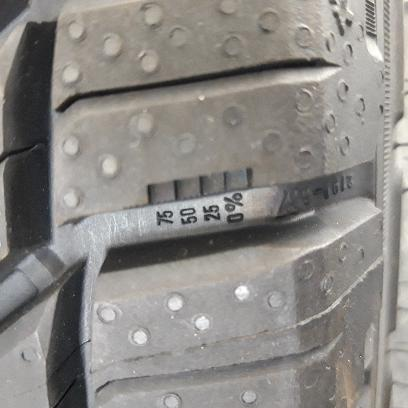temoin:100: (122, 166, 257, 213)
